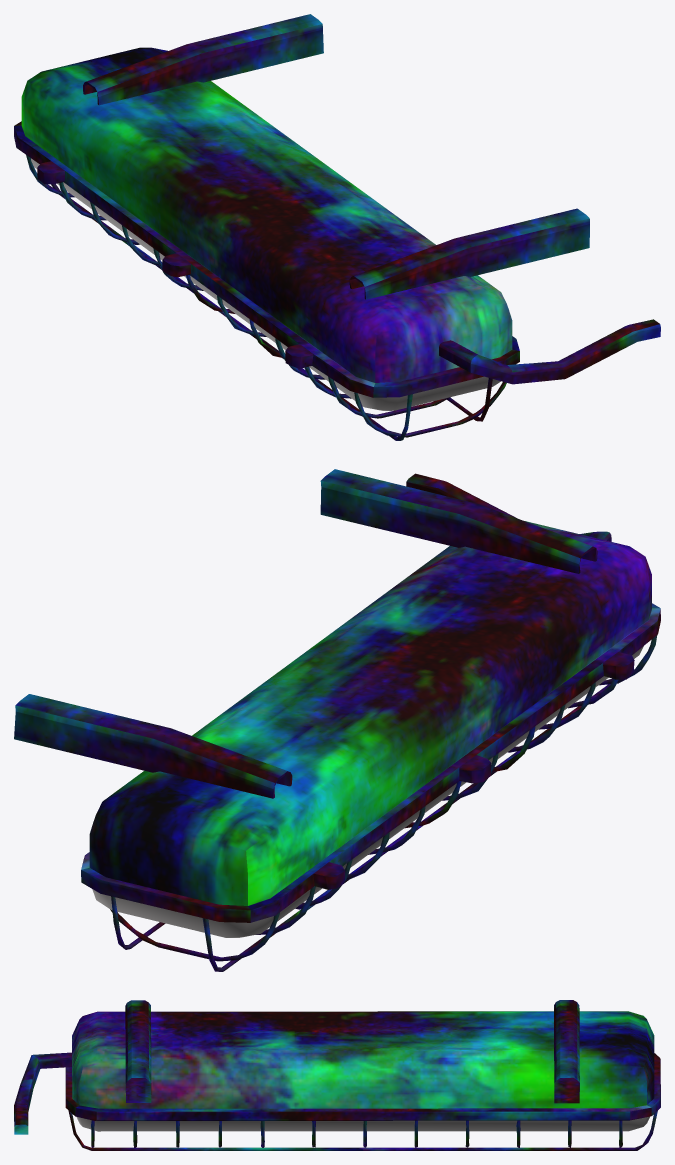
File: SM_Tube_Light.fbx
The picture shows the model from 3 angles, top to bottom: view 1: azimuth 30°, elevation 25°; view 2: azimuth 150°, elevation 25°; view 3: azimuth 270°, elevation 25°; orthographic projection. The views are drawn at different scales.
Parts seen in each view (by area): view 1: SM_Tube_Light_LOD0; view 2: SM_Tube_Light_LOD0; view 3: SM_Tube_Light_LOD0.
Boxes of the visible parts, x1,y1,x2,y2 form: SM_Tube_Light_LOD0: (14,14,660,440); SM_Tube_Light_LOD0: (14,469,660,971); SM_Tube_Light_LOD0: (14,1000,660,1150).
Size of the model in its own units: 21.09 by 52.58 by 11.32.
2 materials, 2 textured.
